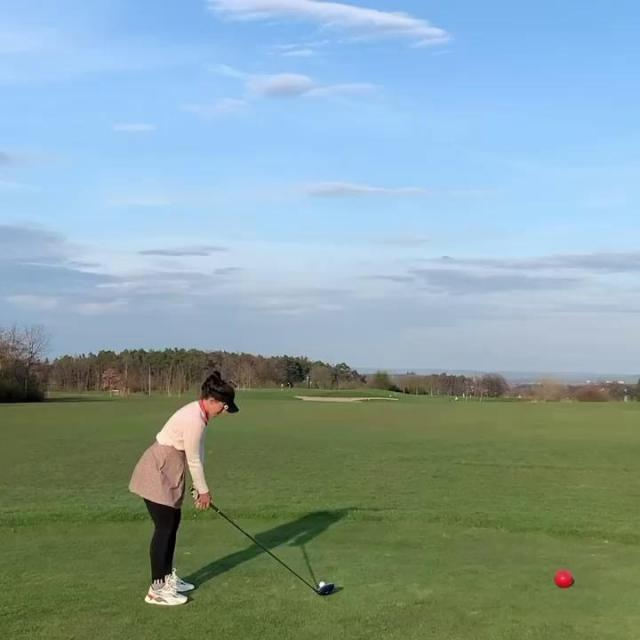ClubHead: (317, 583, 334, 595)
GolfBall: (319, 582, 325, 588)
